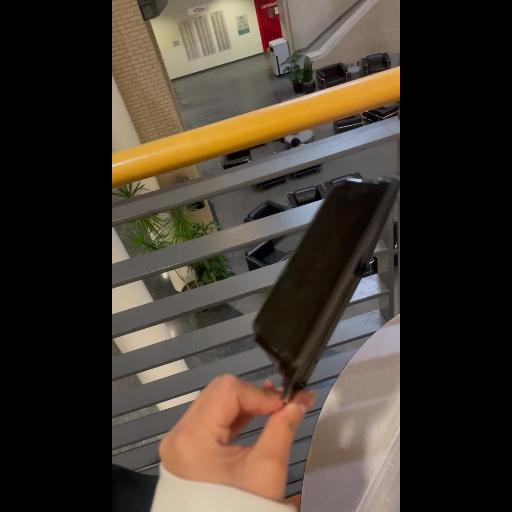rigid_plastic_container: (253, 176, 399, 396)
